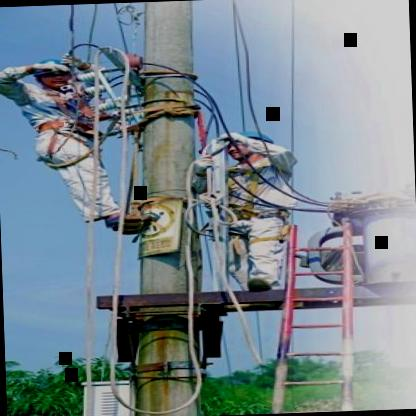helmet: (224, 126, 274, 164), (34, 53, 82, 92)
